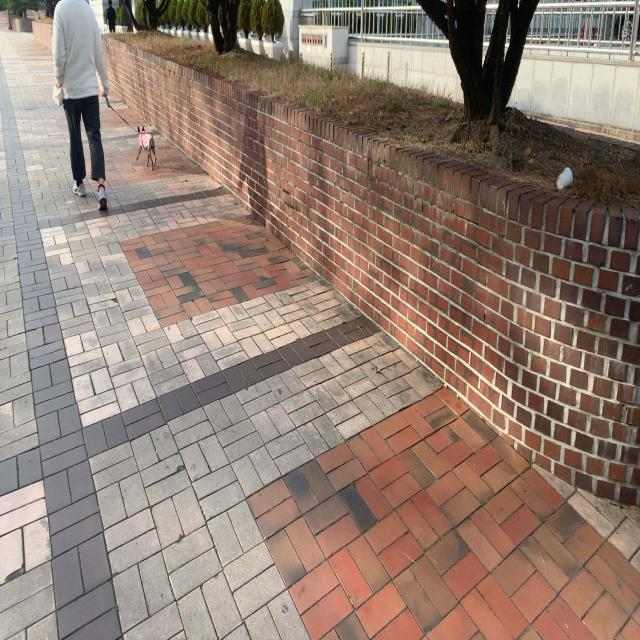Leashed_Dog: (79, 70, 157, 172)
